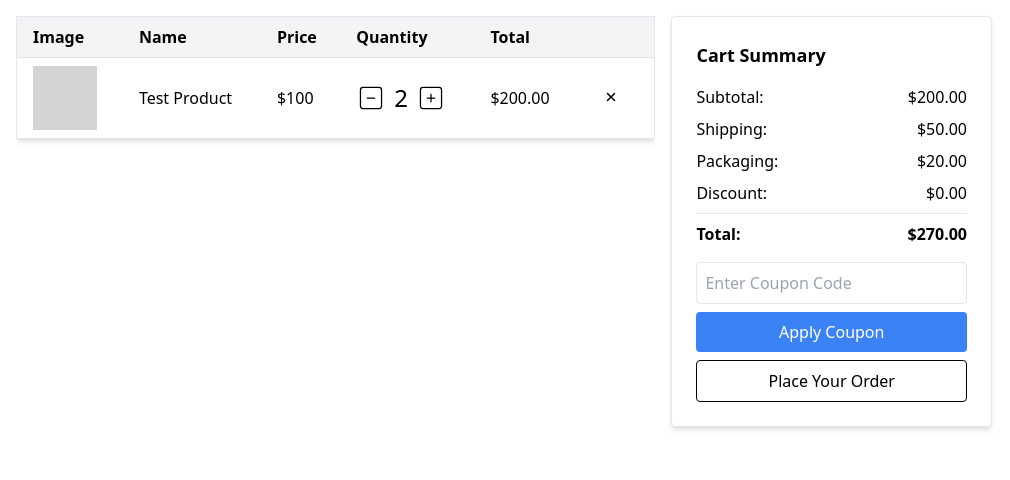
it: CartPage Component › Should display error message when invalid coupon is applied
Type "INVALIDCODE" into the field with placeholder "Enter Coupon Code" at (832, 283), box top-left (696, 262), bottom-right (967, 304)
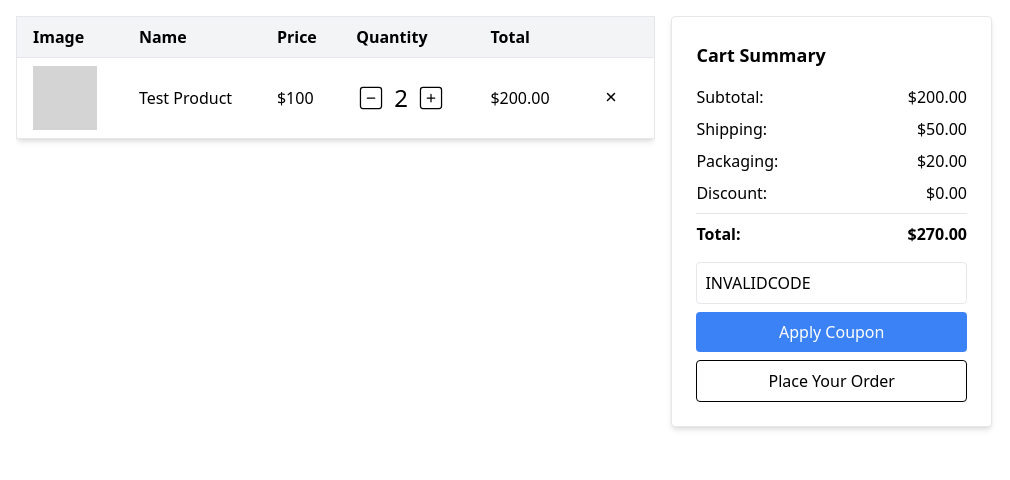
Click the button with test id "apply-coupon-button" at (832, 332), box top-left (696, 312), bottom-right (967, 352)
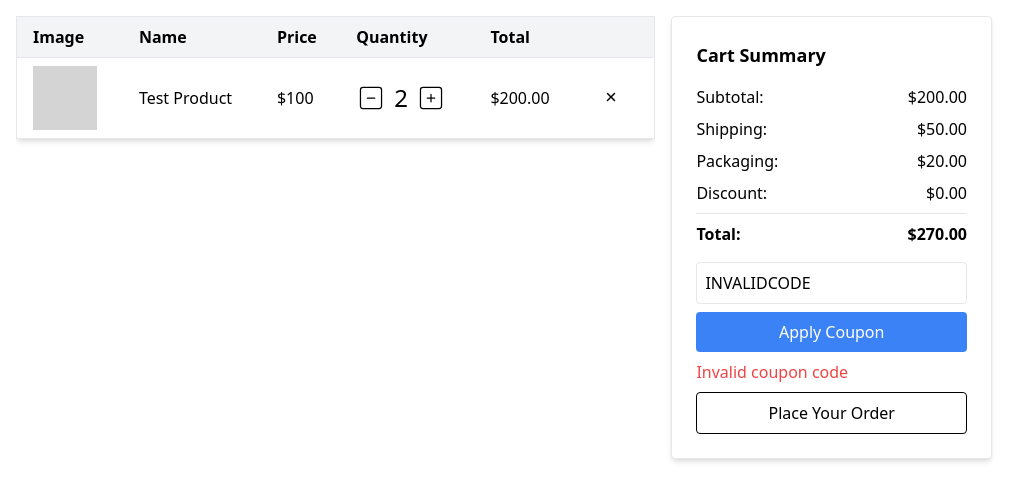
Expected: the text with test id "coupon-message" reads "Invalid coupon code", top-left (696, 361), bottom-right (848, 383)
